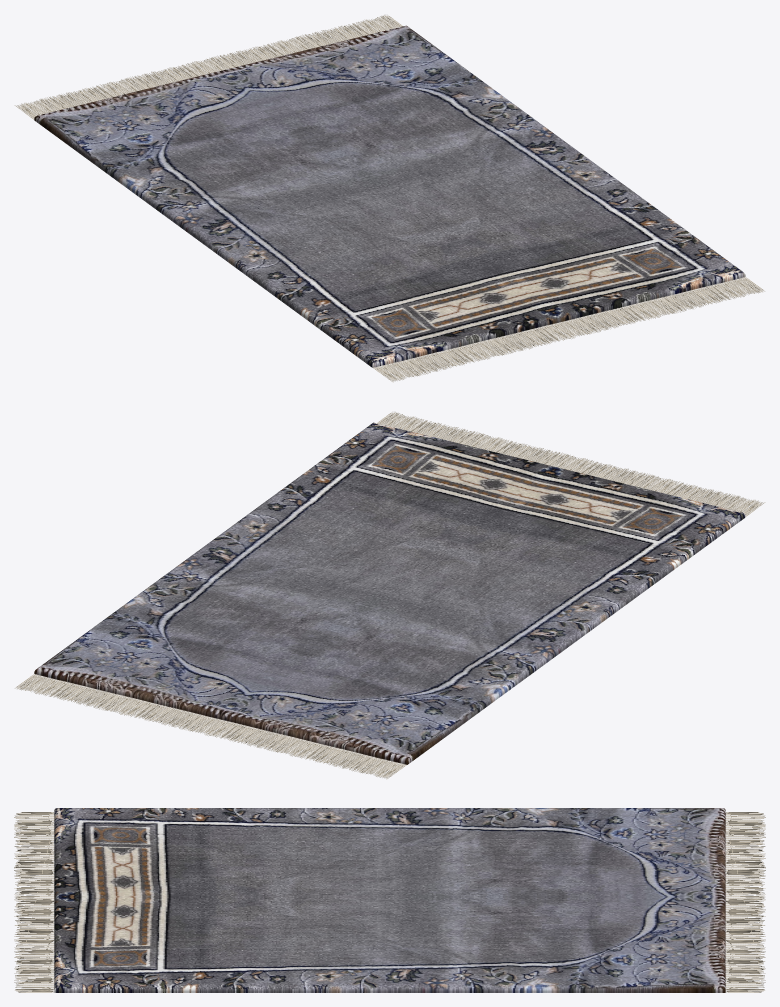
The picture shows the model from 3 angles, top to bottom: view 1: azimuth 30°, elevation 25°; view 2: azimuth 150°, elevation 25°; view 3: azimuth 270°, elevation 25°; orthographic projection.
Visible parts, largest first — view 1: k12; view 2: k12; view 3: k12.
Boxes of the visible parts, x1=… form: k12: x1=14, y1=15, x2=764, y2=382; k12: x1=15, y1=412, x2=765, y2=779; k12: x1=14, y1=808, x2=765, y2=992.
Bounding box in the file's own units: 0.7 × 0.0105 × 1.23.
Materials: 3 (2 with a texture image).
